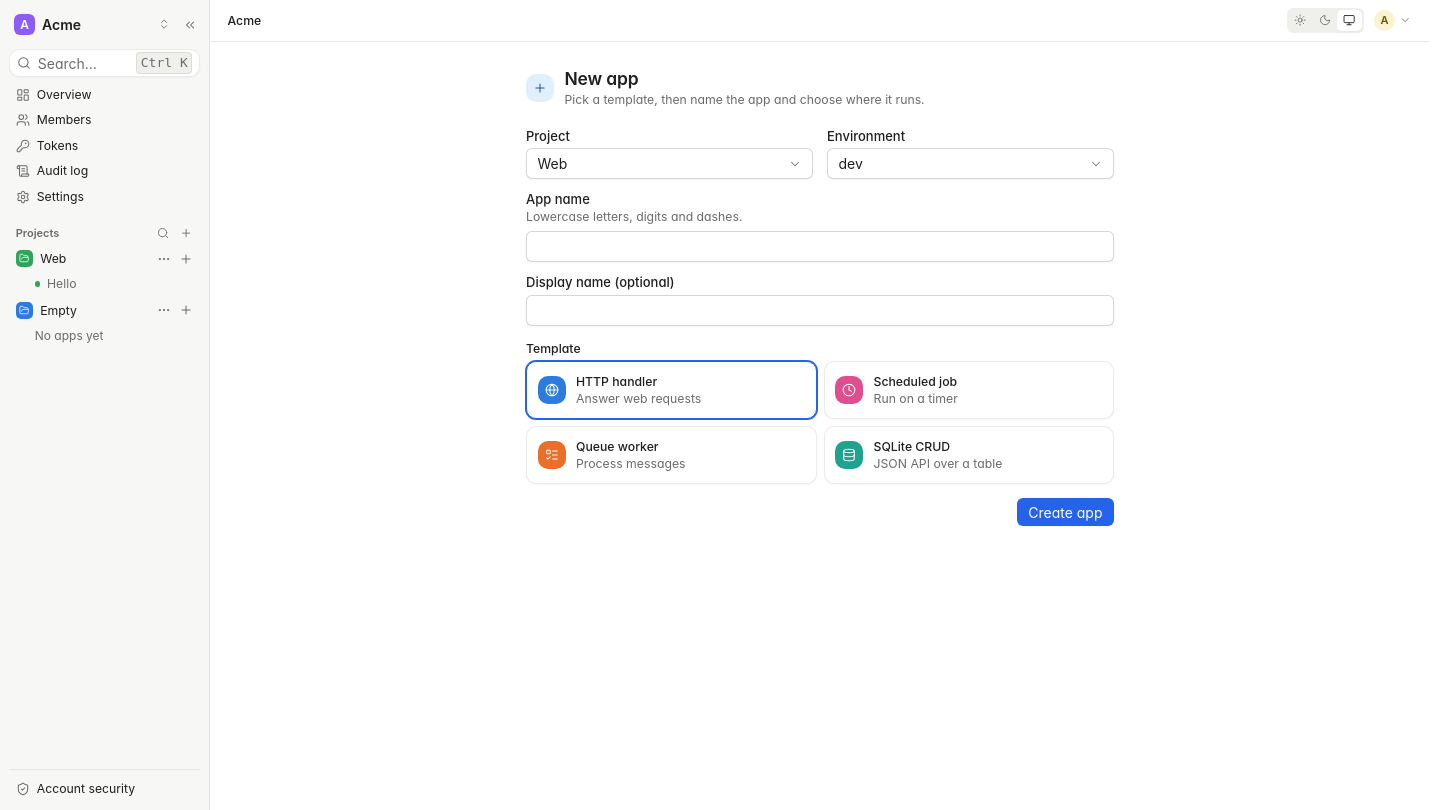
Scenario: app shell › app create offers project environments
Click the dropdown named "environment". click: click(851, 164)
box: [827,148,1114,179]
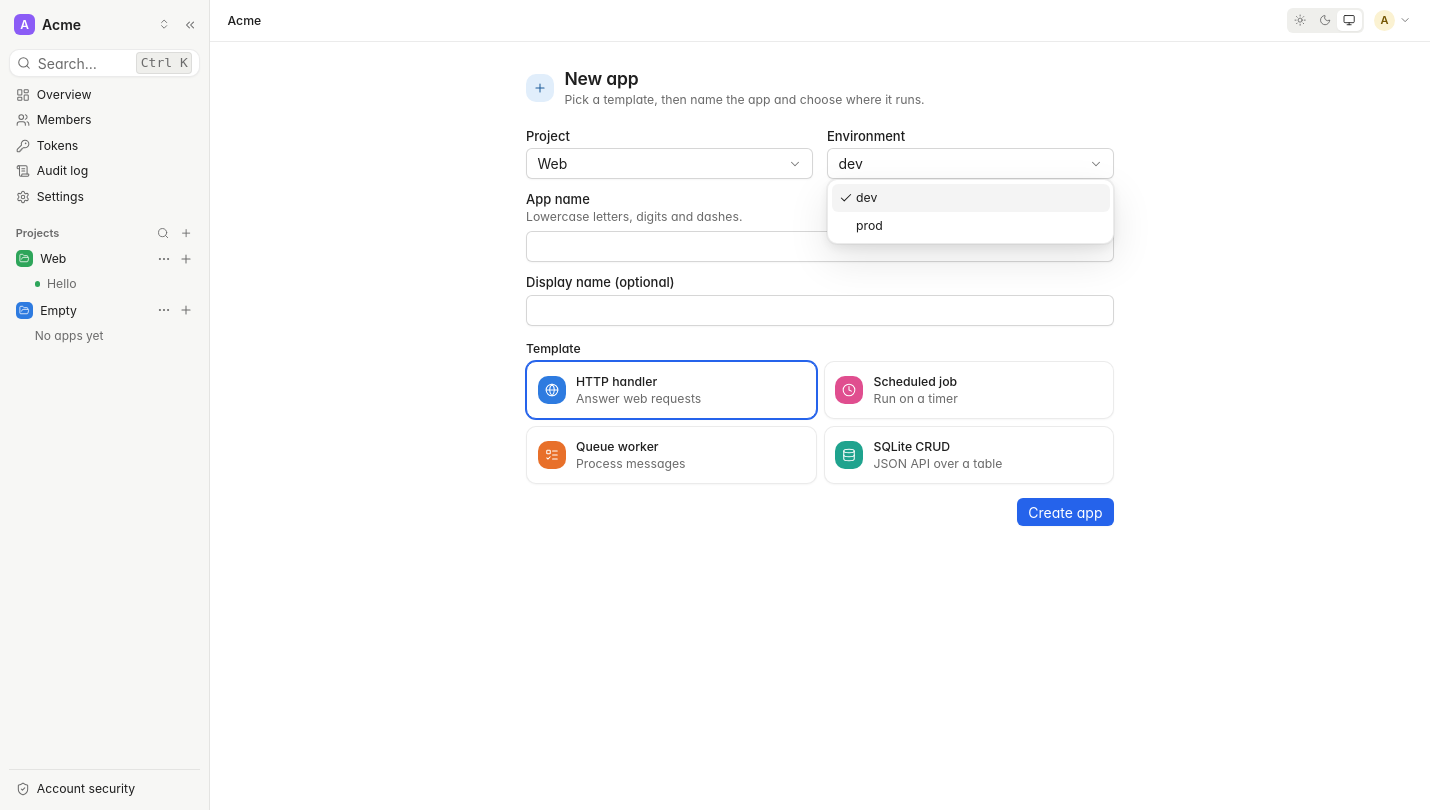
Result: the option "prod" is shown at [856,218,883,233]
Result: the option "dev" is shown at [832,184,1110,212]
